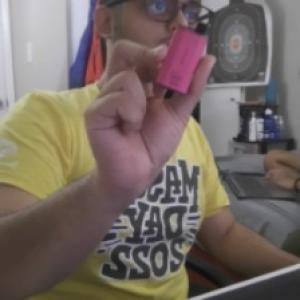Blume-E-Ciggirate: (154, 17, 211, 96)
